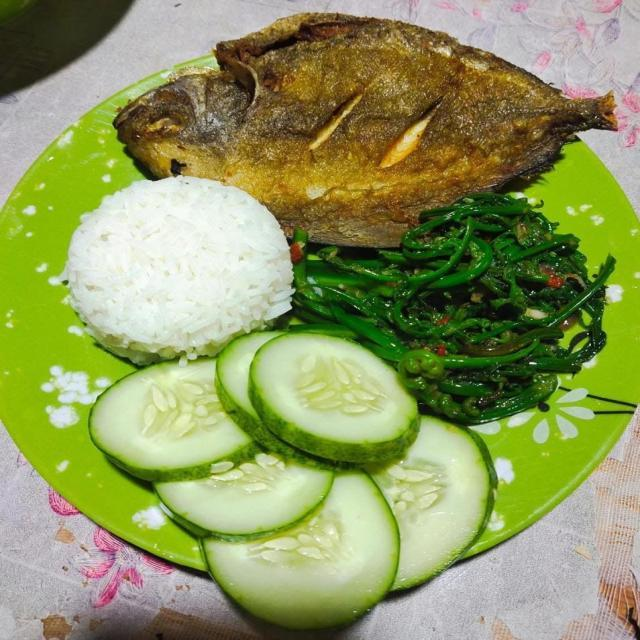Fish: (112, 6, 619, 243)
Plate: (0, 71, 203, 569)
Rice: (62, 177, 294, 369)
Vegetables: (85, 190, 613, 637)
